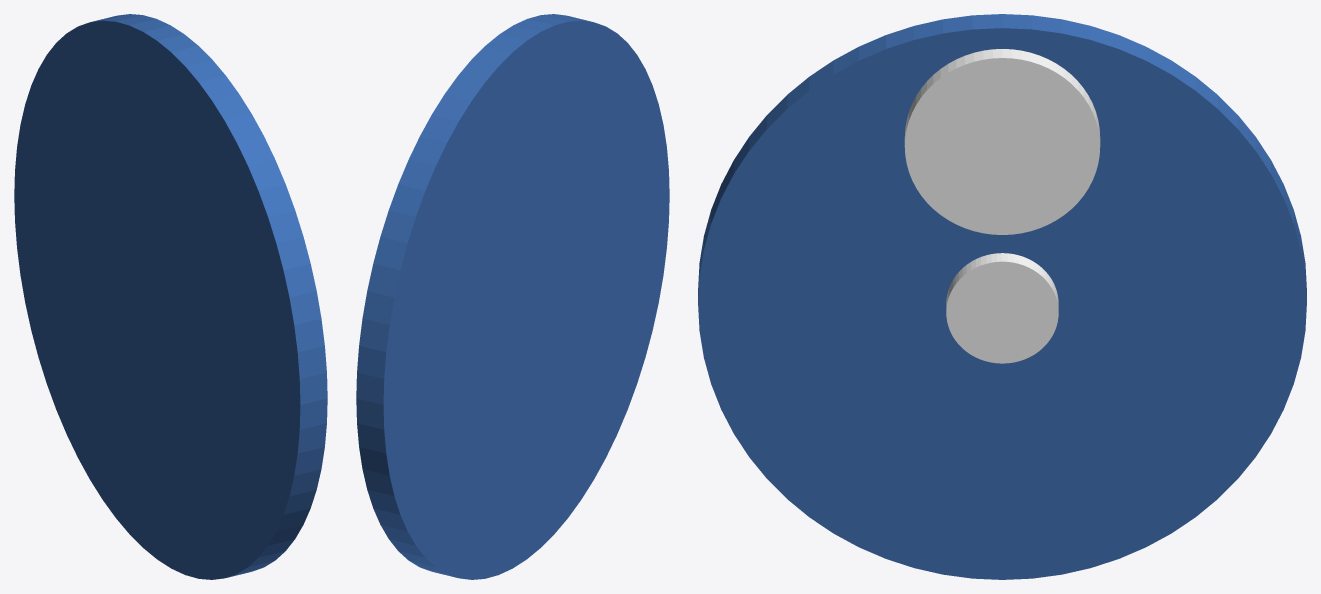
The model's file is UD_Disc.dae.
3 views of the same model, side by side, from view 1: azimuth 30°, elevation 25°; view 2: azimuth 150°, elevation 25°; view 3: azimuth 270°, elevation 25° (orthographic). The views are drawn at different scales.
Visible parts, largest first — view 1: Disk; view 2: Disk; view 3: Disk.
Boxes of the visible parts, x1,y1,x2,y2 form: Disk: [14, 14, 327, 579]; Disk: [356, 14, 669, 579]; Disk: [698, 14, 1306, 579].
Bounding box in the file's own units: 0.124 × 1.37 × 1.37.
